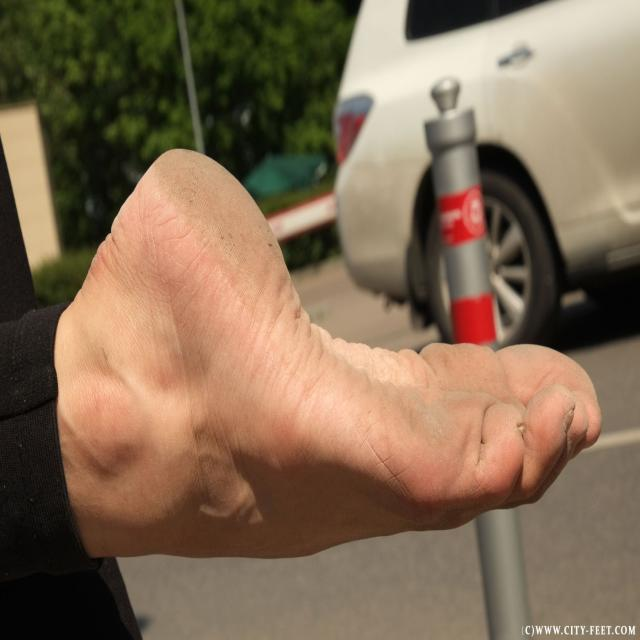Barefoots: (97, 149, 603, 533)
